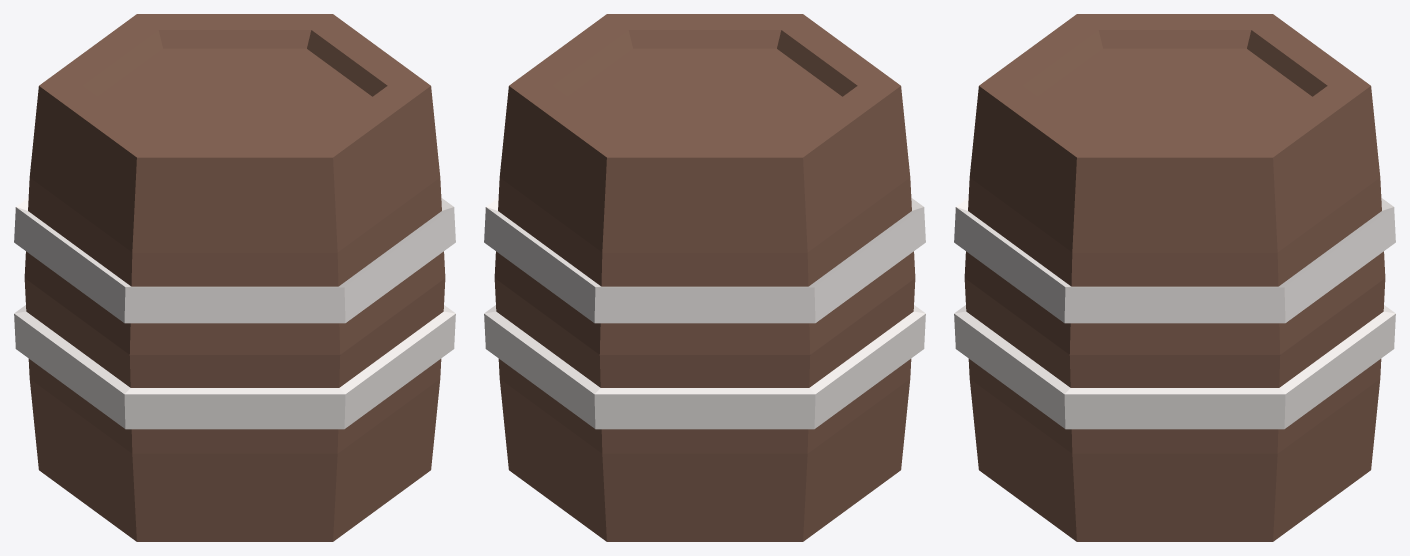
The model's file is Barrel.fbx.
The picture shows the model from 3 angles, left to right: view 1: azimuth 30°, elevation 25°; view 2: azimuth 150°, elevation 25°; view 3: azimuth 270°, elevation 25°; orthographic projection.
Visible parts, largest first — view 1: Cylinder.003; view 2: Cylinder.003; view 3: Cylinder.003.
Part boxes in pixels (left/top/right/bottom): Cylinder.003: left=14, top=14, right=455, bottom=541; Cylinder.003: left=484, top=14, right=925, bottom=541; Cylinder.003: left=954, top=14, right=1395, bottom=541.
Bounding box in the file's own units: 0.4837 × 0.5586 × 0.5362.
